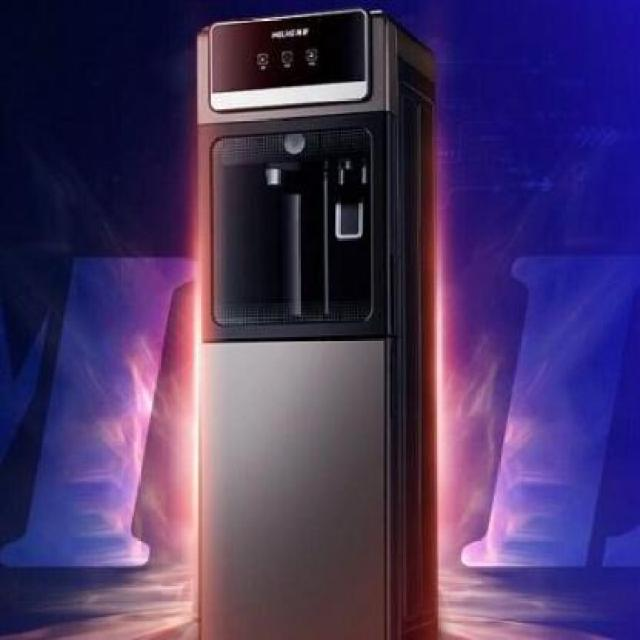cooler: (193, 4, 441, 640)
